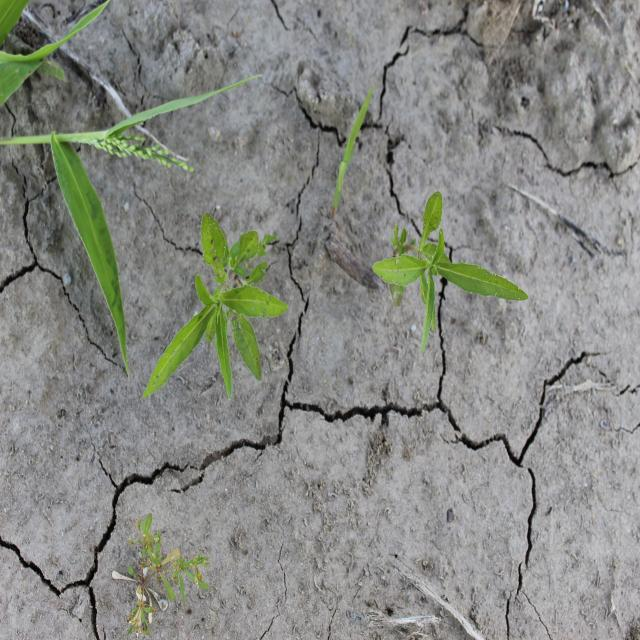Carpetweed: (110, 511, 213, 637)
Eclipta: (140, 212, 290, 402), (371, 190, 530, 358)
